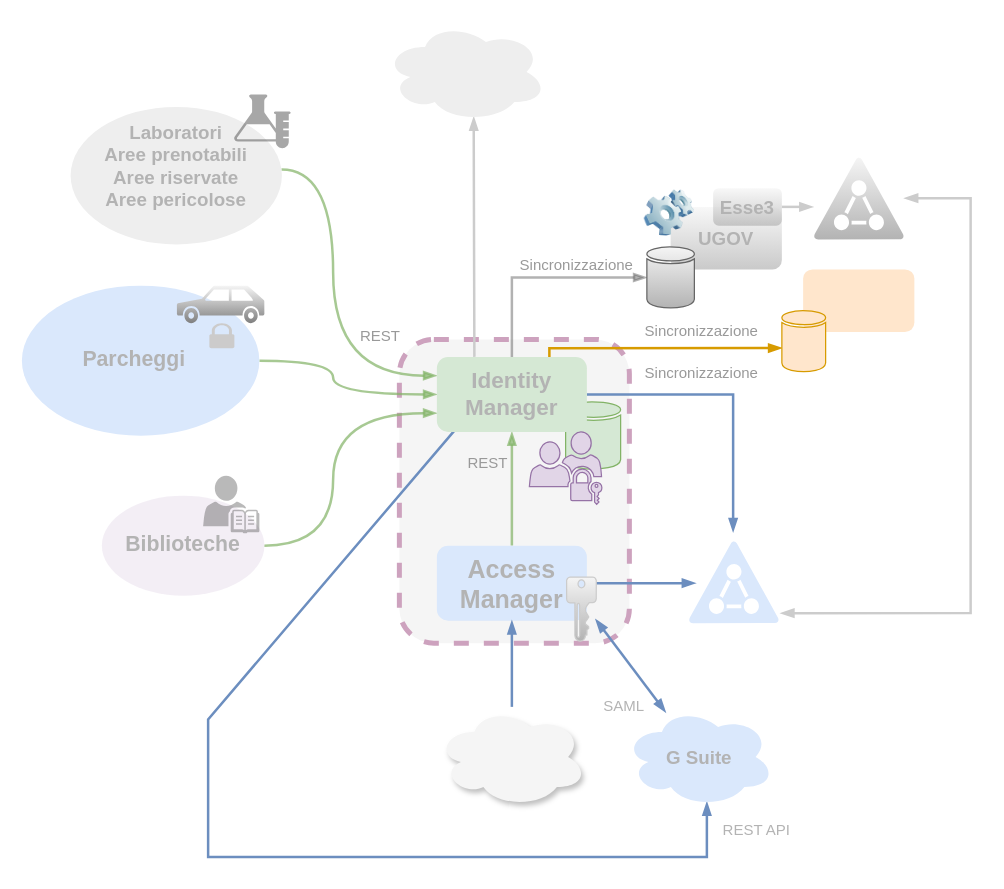
This 1004x889 diagram has some shape labels left out. Each missing label, with the centre of its shape:
"FLUXUS" belongs at point 858,300.
"LDAP" belongs at point 733,581.
"Pull-Printing" belongs at point 465,71.
"Risorse online" belongs at point 512,758.
